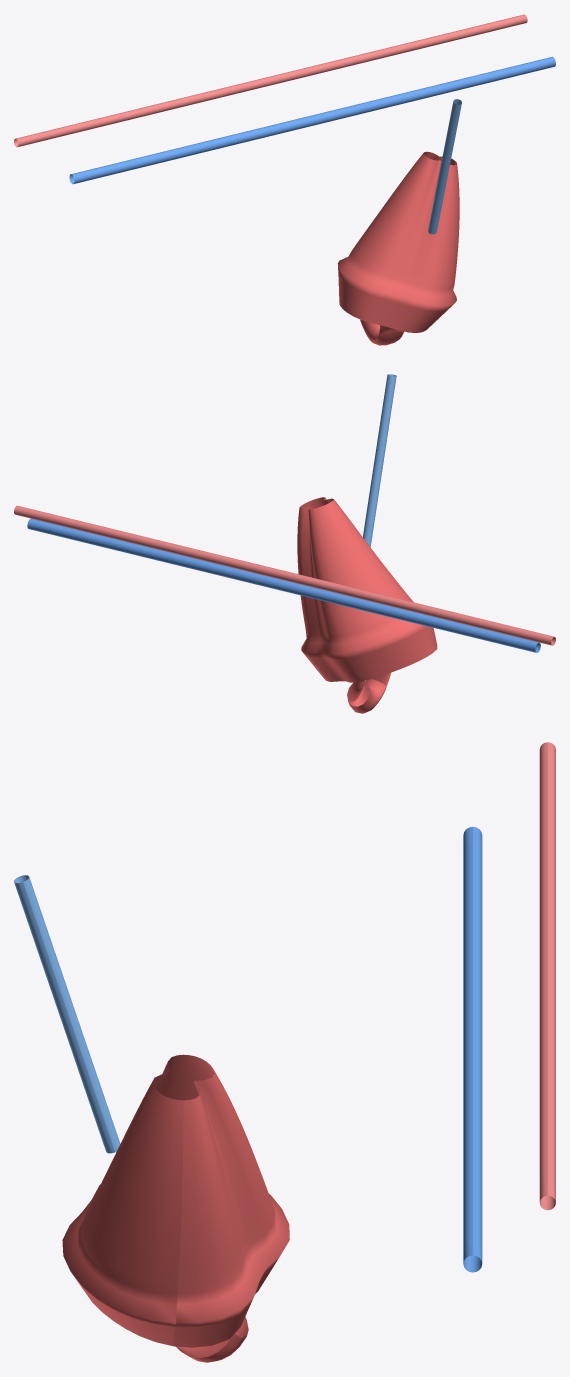
File: cardiovascular.glb
3 renders of one model, top to bottom at view 1: azimuth 30°, elevation 25°; view 2: azimuth 150°, elevation 25°; view 3: azimuth 270°, elevation 25°, orthographic. The views are drawn at different scales.
Visible parts, largest first — view 1: Mesh_Feline_Cor, Mesh_Feline_VenaCava, Mesh_Feline_Aorta, Mesh_Feline_PulmonaryTrunk; view 2: Mesh_Feline_Cor, Mesh_Feline_VenaCava, Mesh_Feline_Aorta, Mesh_Feline_PulmonaryTrunk; view 3: Mesh_Feline_Cor, Mesh_Feline_VenaCava, Mesh_Feline_Aorta, Mesh_Feline_PulmonaryTrunk.
Part boxes in pixels (<box>): Mesh_Feline_Cor: <box>337,151,459,345</box>; Mesh_Feline_VenaCava: <box>69,56,555,184</box>; Mesh_Feline_Aorta: <box>14,14,527,147</box>; Mesh_Feline_PulmonaryTrunk: <box>428,99,461,234</box>; Mesh_Feline_Cor: <box>297,497,437,713</box>; Mesh_Feline_VenaCava: <box>27,518,540,652</box>; Mesh_Feline_Aorta: <box>14,505,555,645</box>; Mesh_Feline_PulmonaryTrunk: <box>363,374,396,546</box>; Mesh_Feline_Cor: <box>62,1054,289,1362</box>; Mesh_Feline_VenaCava: <box>463,826,482,1272</box>; Mesh_Feline_Aorta: <box>539,742,555,1210</box>; Mesh_Feline_PulmonaryTrunk: <box>14,875,120,1153</box>.
Size of the model in its own units: 0.7255 by 0.3708 by 0.3612.
